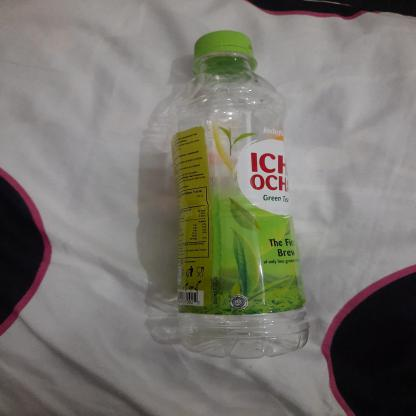plastic: (168, 27, 312, 364)
